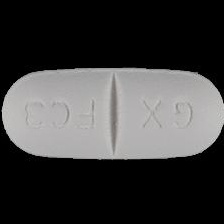53808-0895: (0, 0, 224, 224)
